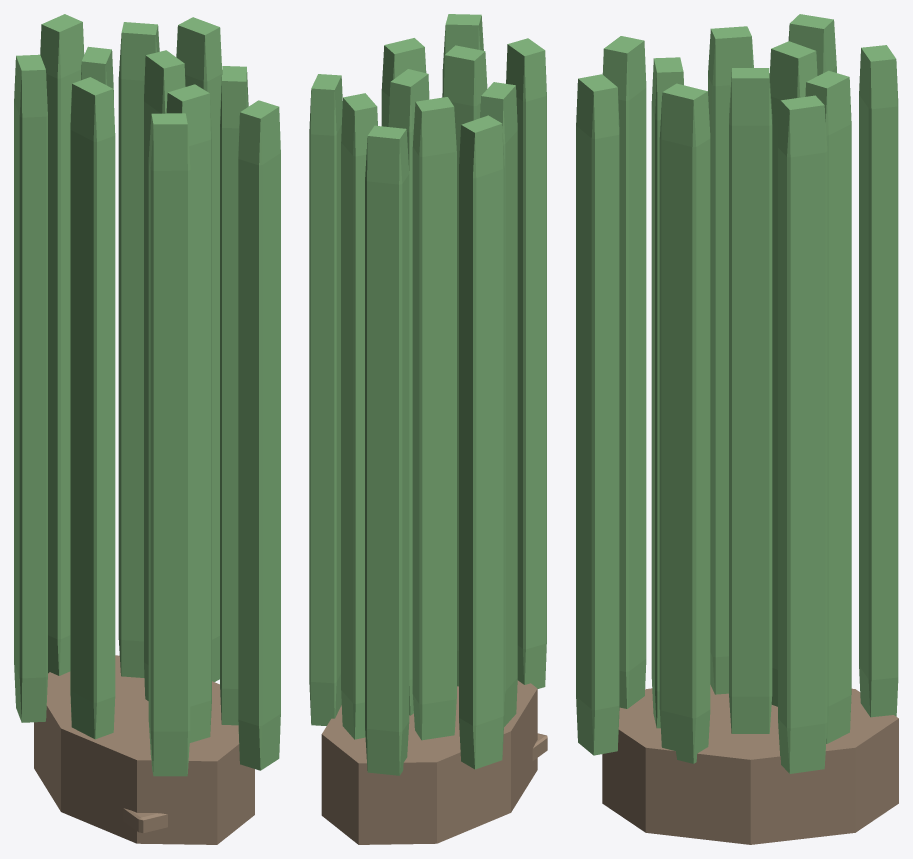
File: b08_cattail_cluster.glb
3 renders of one model, left to right at view 1: azimuth 30°, elevation 25°; view 2: azimuth 150°, elevation 25°; view 3: azimuth 270°, elevation 25°, orthographic. The views are drawn at different scales.
Parts seen in each view (by area): view 1: b08_cattail_cluster; view 2: b08_cattail_cluster; view 3: b08_cattail_cluster.
Part boxes in pixels (box(x1,y1,x2,y2)): b08_cattail_cluster: box(14, 14, 280, 844); b08_cattail_cluster: box(309, 14, 547, 844); b08_cattail_cluster: box(576, 14, 898, 844).
Bounding box in the file's own units: 0.583 × 2.06 × 0.814.
